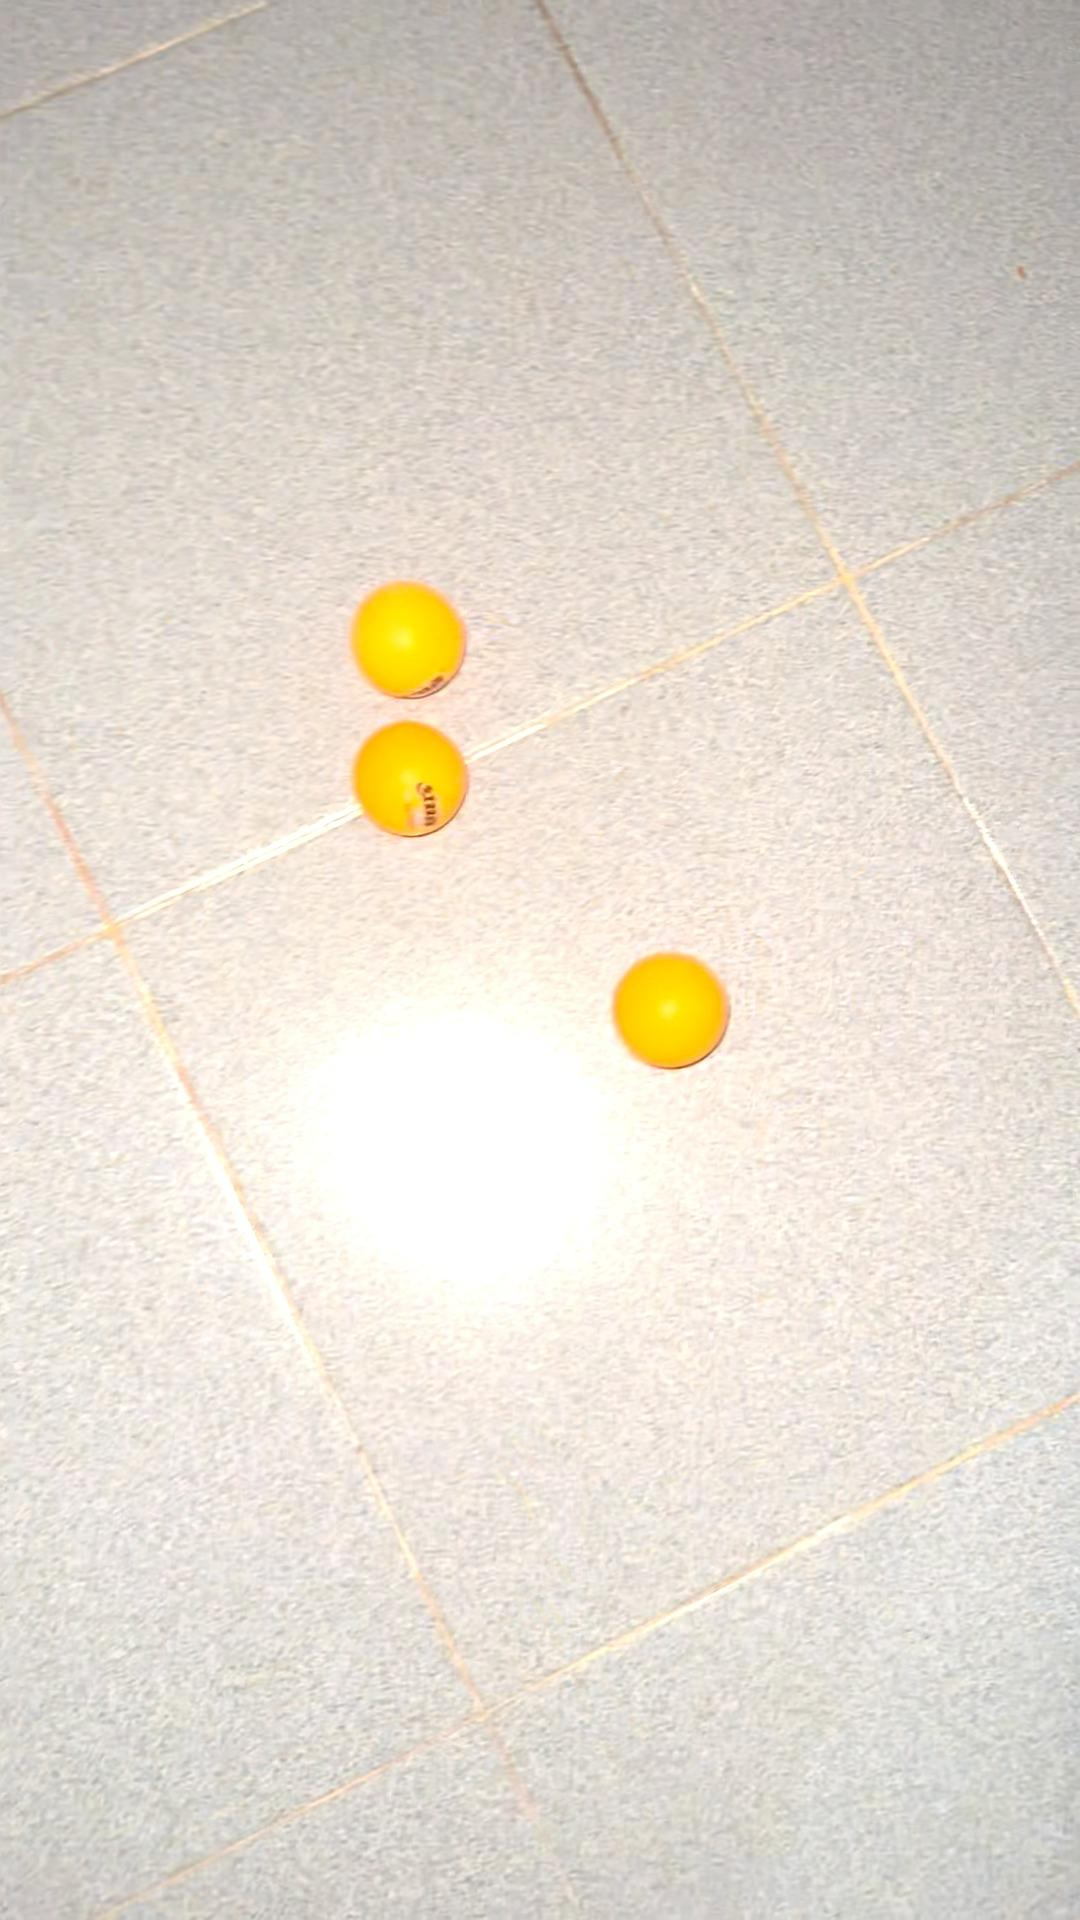oball: (608, 955, 746, 1081), (347, 580, 473, 707), (355, 711, 477, 840)
